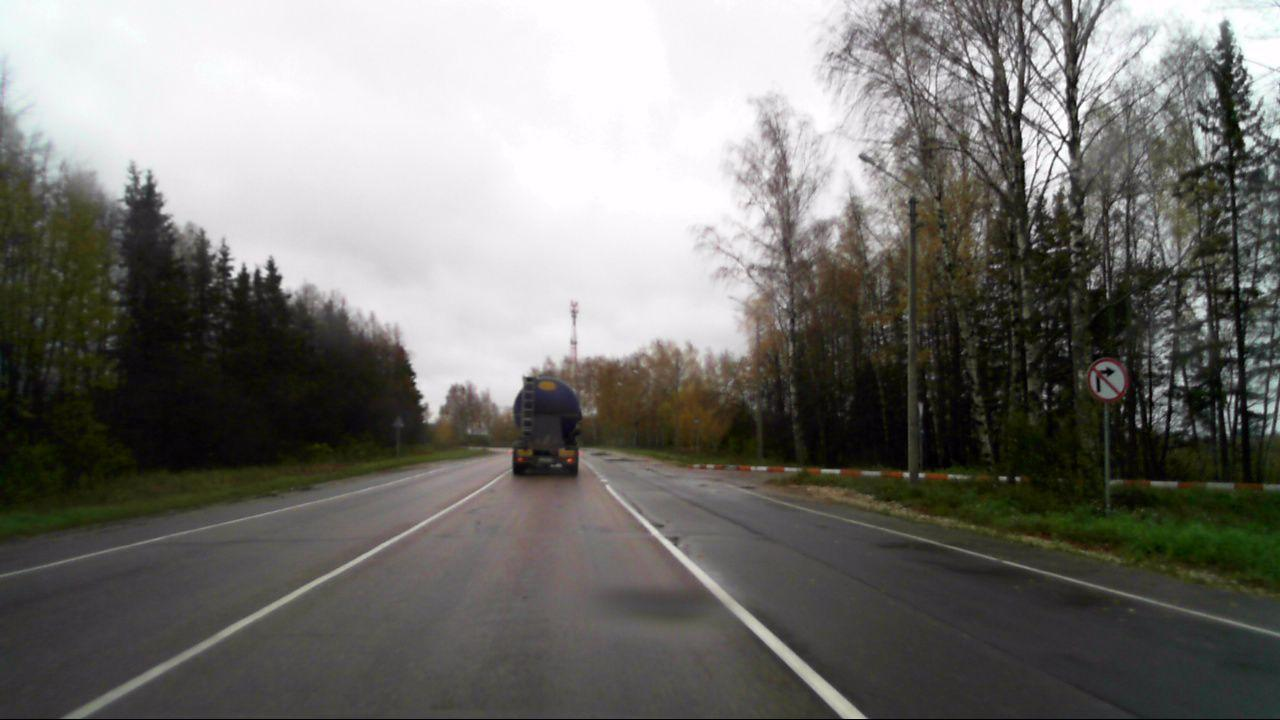3_18_1: (1084, 356, 1130, 405)
